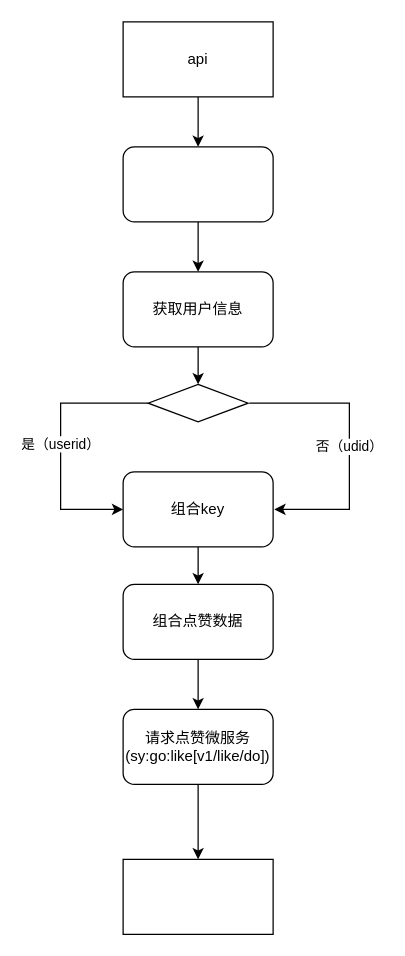
This 405x956 diagram has some shape labels left out. Here are the shapes that lost their labels. From the top down, the box of each, then its label:
(122, 146, 273, 222): 接收并验证参数
(147, 383, 248, 422): 判定登录
(122, 858, 273, 934): 结束 返回
